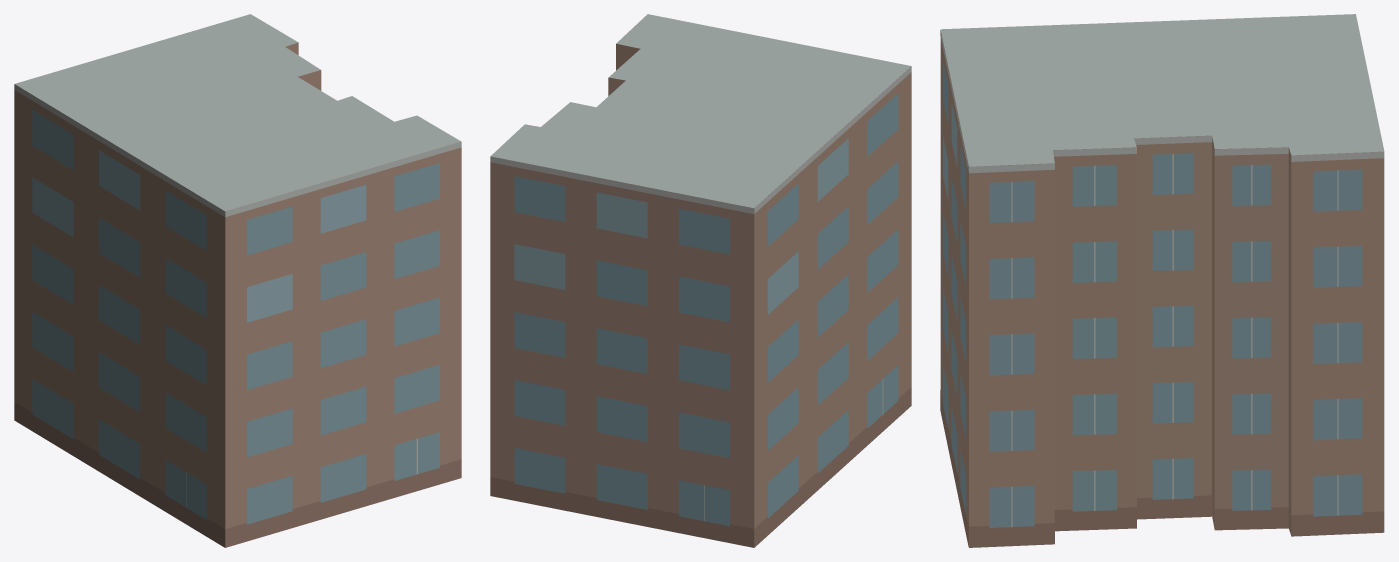
File: survey-upis-32881104.glb
3 renders of one model, left to right at view 1: azimuth 30°, elevation 25°; view 2: azimuth 150°, elevation 25°; view 3: azimuth 270°, elevation 25°, orthographic. The views are drawn at different scales.
Visible parts, largest first — view 1: survey-upis-32881104.tmp; view 2: survey-upis-32881104.tmp; view 3: survey-upis-32881104.tmp.
Part boxes in pixels (left/top/right/bottom): survey-upis-32881104.tmp: left=14, top=14, right=461, bottom=547; survey-upis-32881104.tmp: left=490, top=14, right=911, bottom=547; survey-upis-32881104.tmp: left=940, top=14, right=1384, bottom=547.
Bounding box in the file's own units: 12.13 × 14.1 × 14.9.
